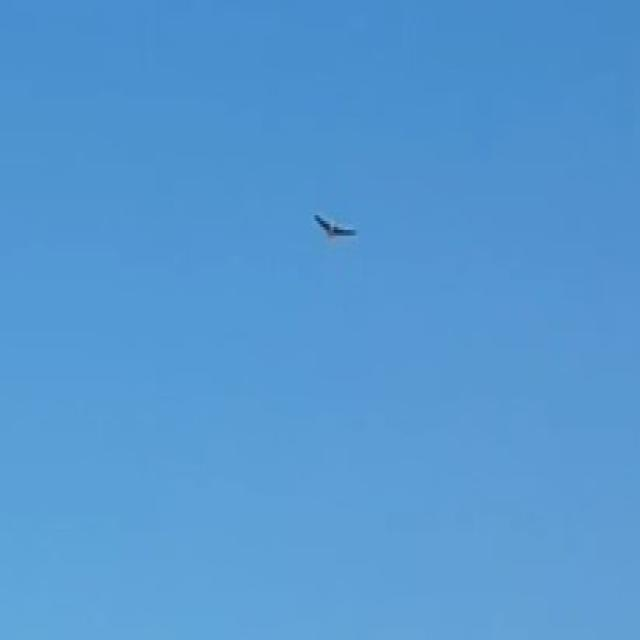iha: (312, 212, 359, 239)
